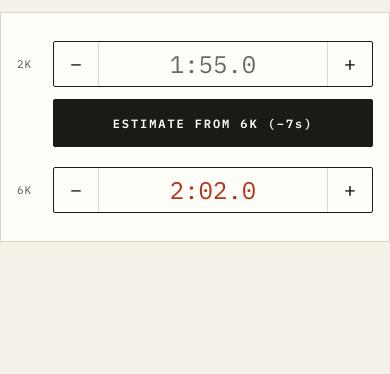
Test: the derivation offer (ui-notes round, item 2) › the filled value is an ordinary draft edit: typing still adjusts it afterward
Click the button "ESTIMATE FROM 6K (−7s)": (213,123) [53,99,373,147]
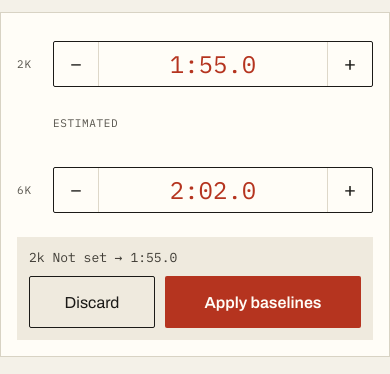
In the field named "2k split": (213,64) [107,42,319,86], type "154"
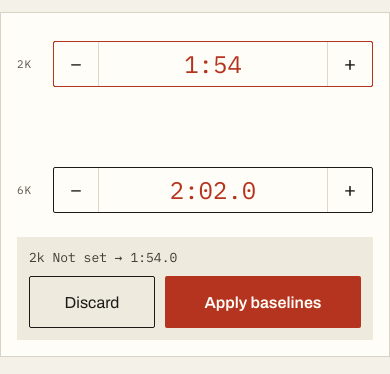
Expected: the text "2k Not set → 1:54.0" is shown, [29,249,177,266]
